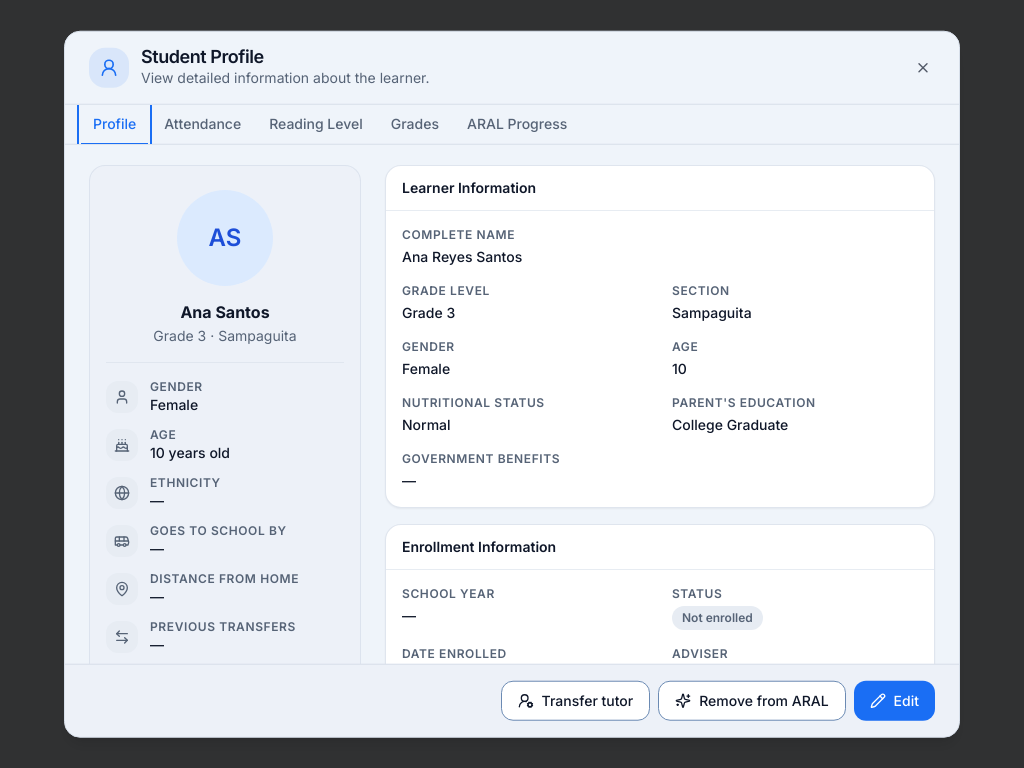
Test: LearnerProfileModal — footer actions › confirms a removal, then drops the tutor along with the enrolment
The width and height of the screenshot is (1024, 768).
Click the tab "ARAL Progress": (517, 125) [455,105,579,145]
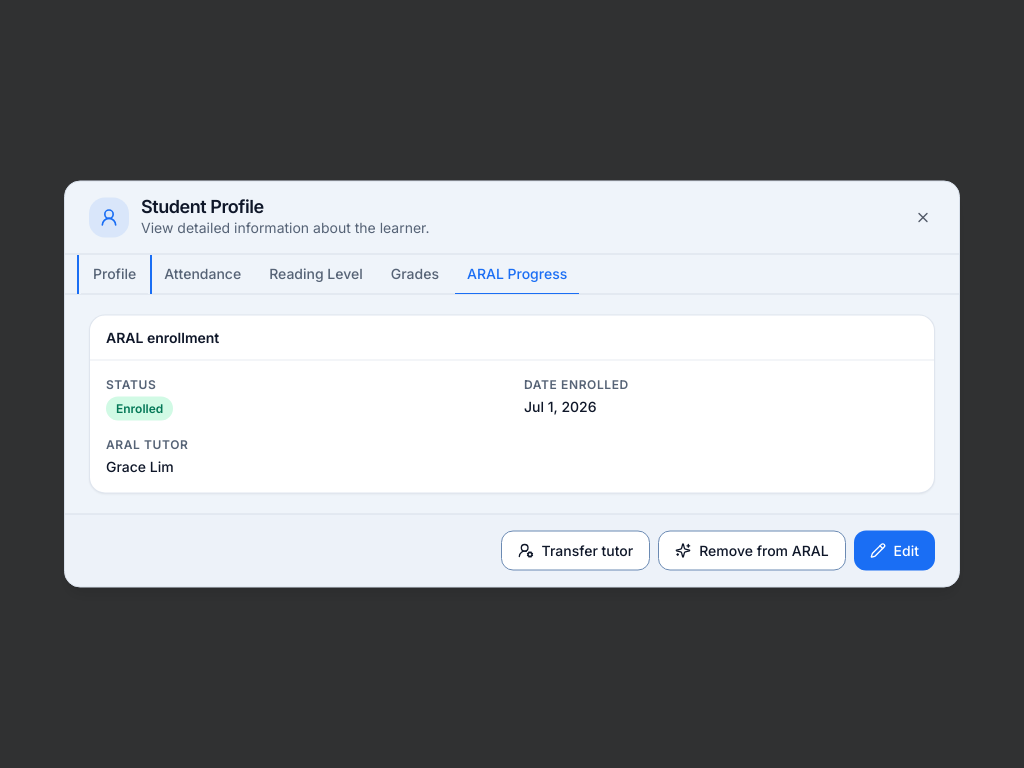
Result: the text "Grace Lim" is shown at [106,458,174,474]
Click the button "Remove from ARAL": (752, 550) [658,530,846,570]
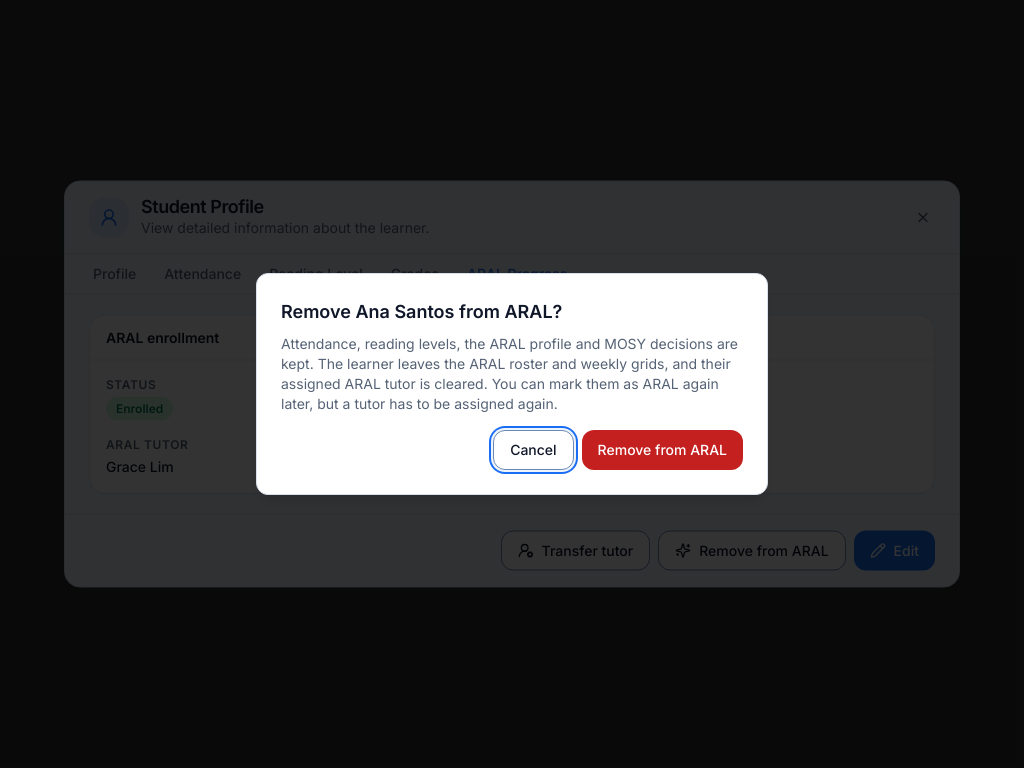
Click the button "Remove from ARAL": (662, 450) [582,430,743,470]
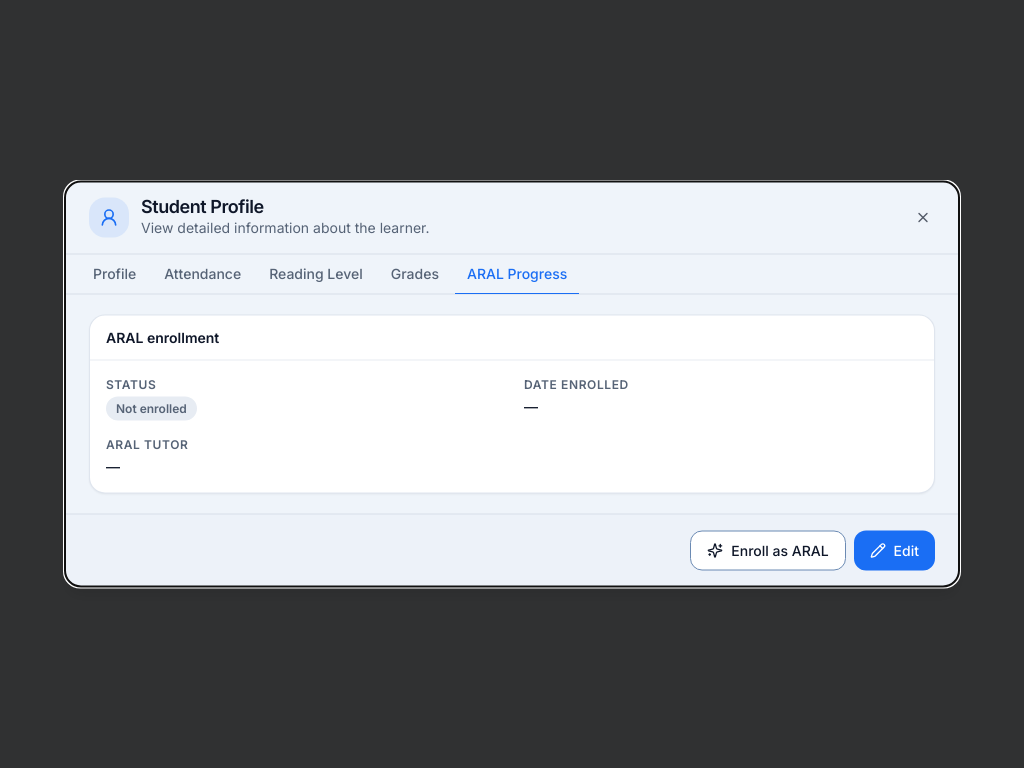
Result: the button "Enroll as ARAL" is shown at [690,530,846,570]
Result: the text "Grace Lim" is gone
